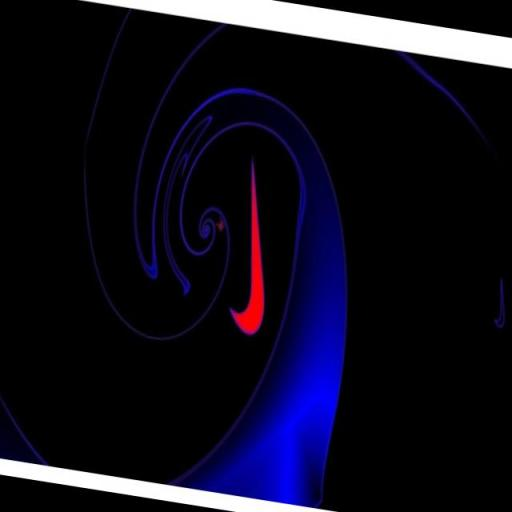Nike: (216, 142, 296, 350)
